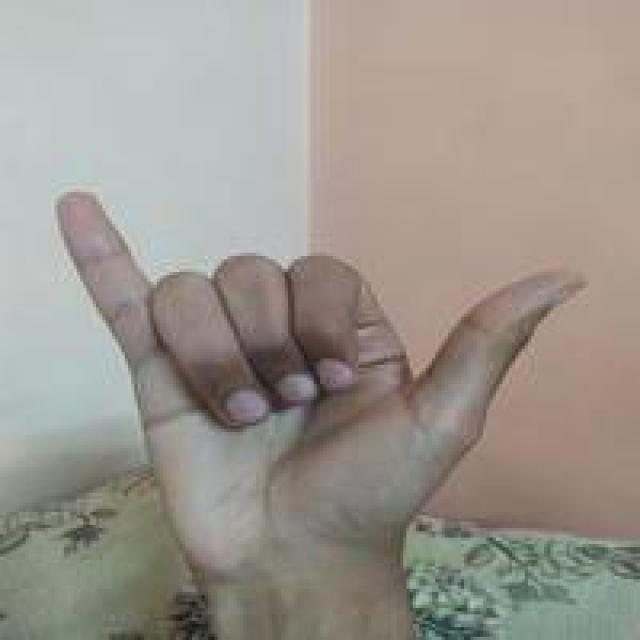Y: (48, 174, 586, 565)
